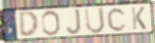C: (106, 7, 128, 32)
D: (17, 11, 40, 39)
J: (65, 8, 83, 36)
K: (130, 6, 148, 31)
O: (41, 10, 62, 37)
U: (84, 7, 106, 35)
